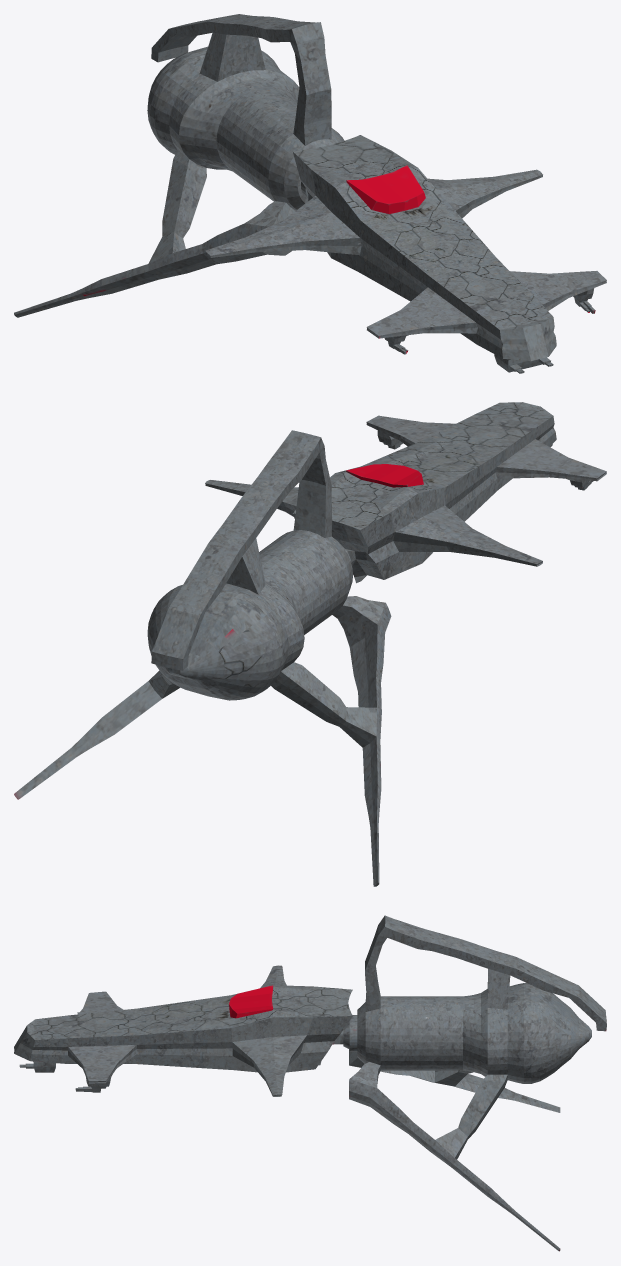
File: thesisenemyship.obj
3 renders of one model, top to bottom at view 1: azimuth 30°, elevation 25°; view 2: azimuth 150°, elevation 25°; view 3: azimuth 270°, elevation 25°, orthographic. The views are drawn at different scales.
Parts seen in each view (by area): view 1: enemyship_Cube.013; view 2: enemyship_Cube.013; view 3: enemyship_Cube.013.
Part boxes in pixels (box(x1,y1,x2,y2)): enemyship_Cube.013: box(14, 14, 606, 373); enemyship_Cube.013: box(14, 402, 606, 886); enemyship_Cube.013: box(14, 915, 606, 1251).
Bounding box in the file's own units: 2.84 × 2.45 × 5.03.
1 material, 1 textured.
